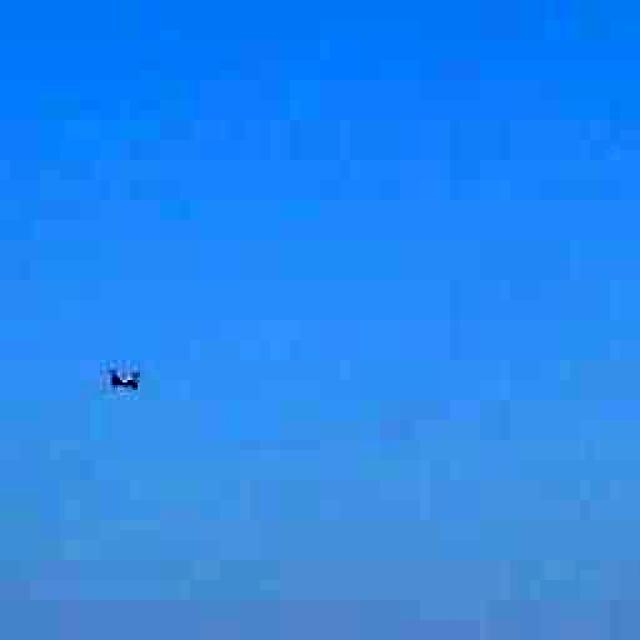bird: (94, 348, 161, 410)
